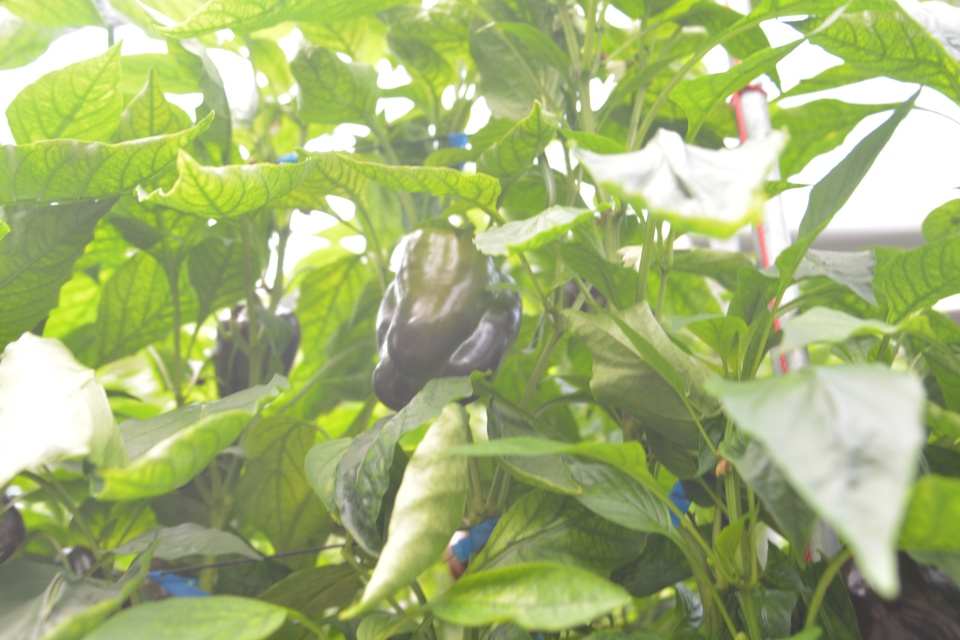fruit: (372, 220, 525, 413), (839, 547, 960, 638), (212, 299, 303, 396), (563, 272, 610, 312), (53, 544, 105, 580), (0, 491, 24, 561)
